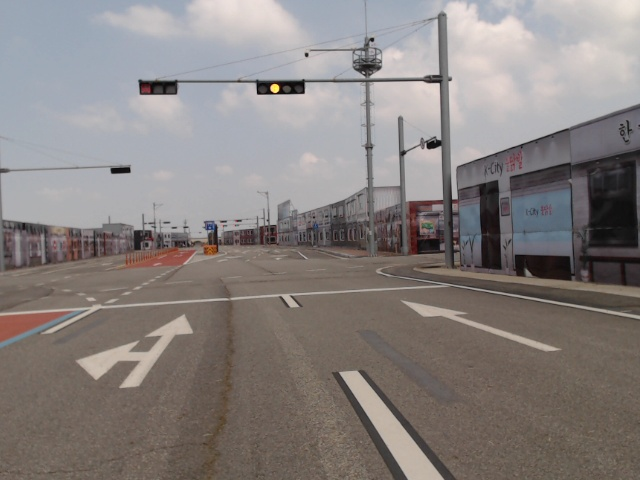orange_4: (254, 79, 307, 95)
